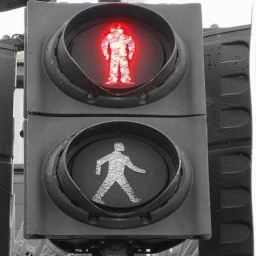traffic light: (22, 2, 211, 238)
